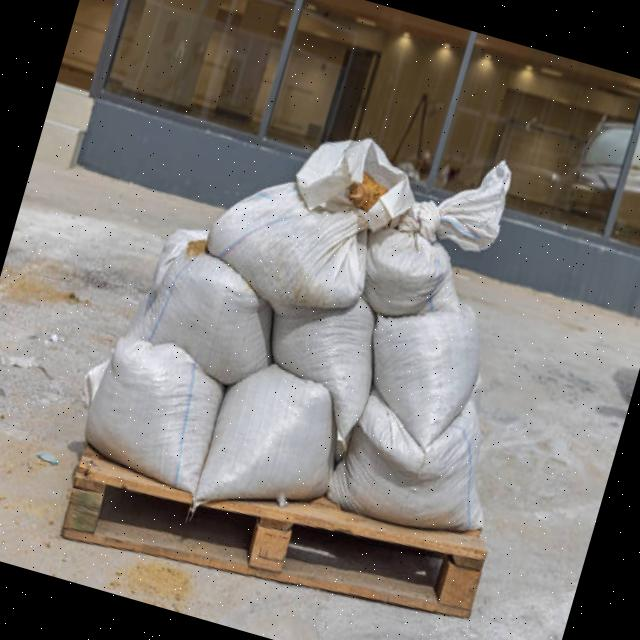Wooden-Pallets: (56, 457, 496, 628)
